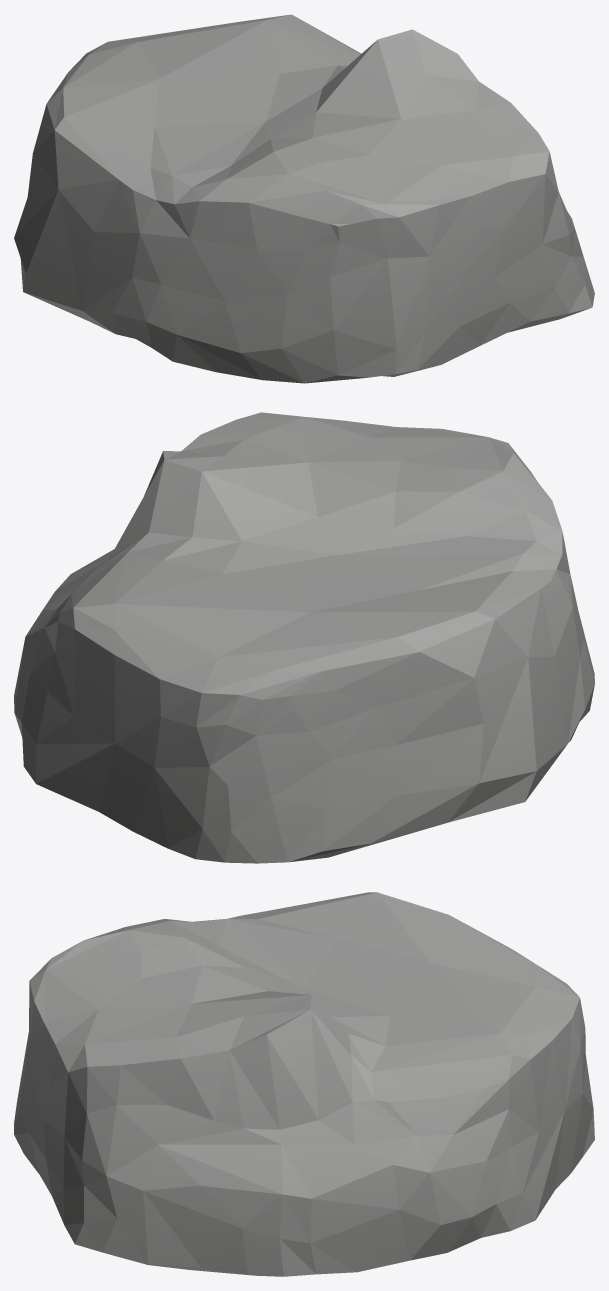
Rendered from Cavern_Step_Lrg-02.fbx.
The picture shows the model from 3 angles, top to bottom: view 1: azimuth 30°, elevation 25°; view 2: azimuth 150°, elevation 25°; view 3: azimuth 270°, elevation 25°; orthographic projection. The views are drawn at different scales.
Parts seen in each view (by area): view 1: Cavern_Step_Lrg-02; view 2: Cavern_Step_Lrg-02; view 3: Cavern_Step_Lrg-02.
Part boxes in pixels (x1,y1,x2,y2): Cavern_Step_Lrg-02: (14, 14, 594, 383); Cavern_Step_Lrg-02: (14, 412, 594, 863); Cavern_Step_Lrg-02: (14, 892, 594, 1276).
Size of the model in its own units: 827 by 386 by 881.
Materials: 1 (1 with a texture image).
